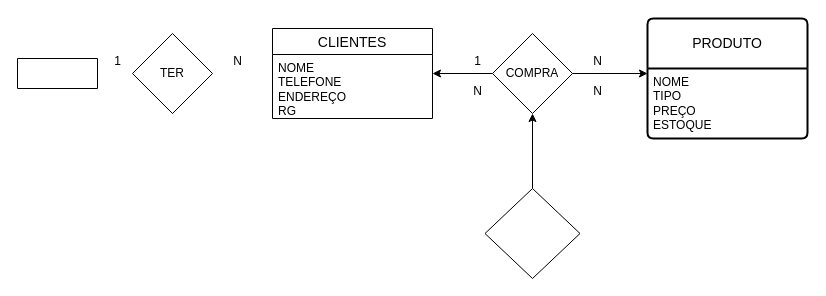
Image size: 826x296. Some labels were removed from this diagram. The shapes that lost their labels are listed below. From the top down, each one's centre as x and y in pixels, then its label:
point (57, 73): FLOR
point (532, 233): ARMAZENAR
